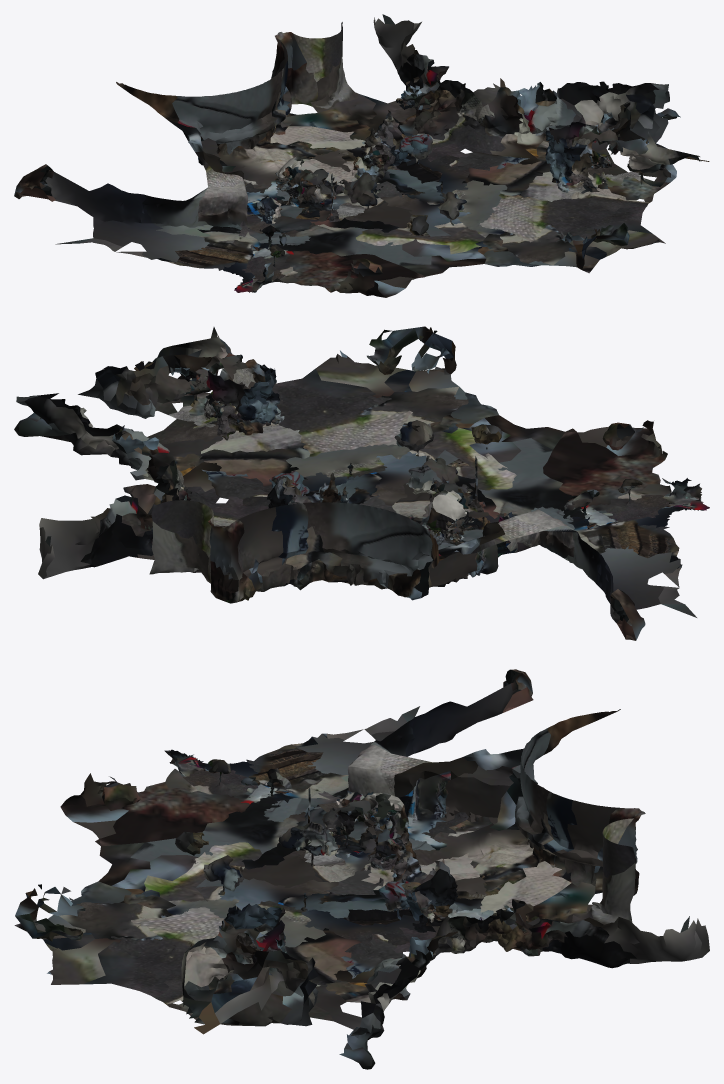
File: planetarium 2_edited 1.fbx
The picture shows the model from 3 angles, top to bottom: view 1: azimuth 30°, elevation 25°; view 2: azimuth 150°, elevation 25°; view 3: azimuth 270°, elevation 25°; orthographic projection. The views are drawn at different scales.
Parts seen in each view (by area): view 1: Polygon; view 2: Polygon; view 3: Polygon.
Boxes of the visible parts, box(x1,y1,x2,y2) form: Polygon: box(14, 14, 709, 297); Polygon: box(14, 326, 709, 640); Polygon: box(14, 669, 709, 1069).
Size of the model in its own units: 1105 by 131 by 905.
